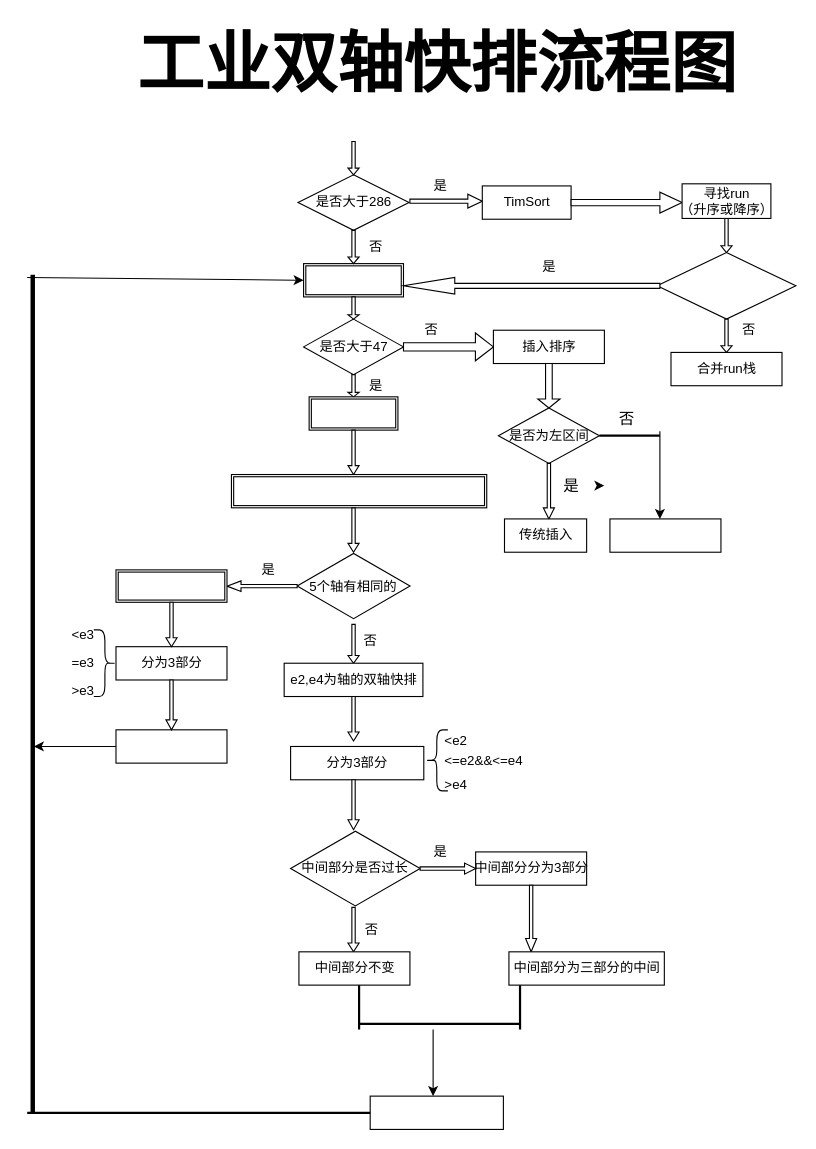
This 816x1149 diagram has some shape labels left out. The centre of each missing label's shape, as x and y in pixels:
"e3为轴单轴快排" belongs at pixel 171 585.
"run个数是否大于67" belongs at pixel 726 285.
"双数插入" belongs at pixel 665 535.
"快速排序" belongs at pixel 353 413.
"找到5个轴 e3-2*7th e3-7th e3 e3+7th e3+2*7th" belongs at pixel 358 490.
"递归2部分" belongs at pixel 171 746.
"递归3部分" belongs at pixel 436 1112.
"非归并排序" belongs at pixel 352 280.
